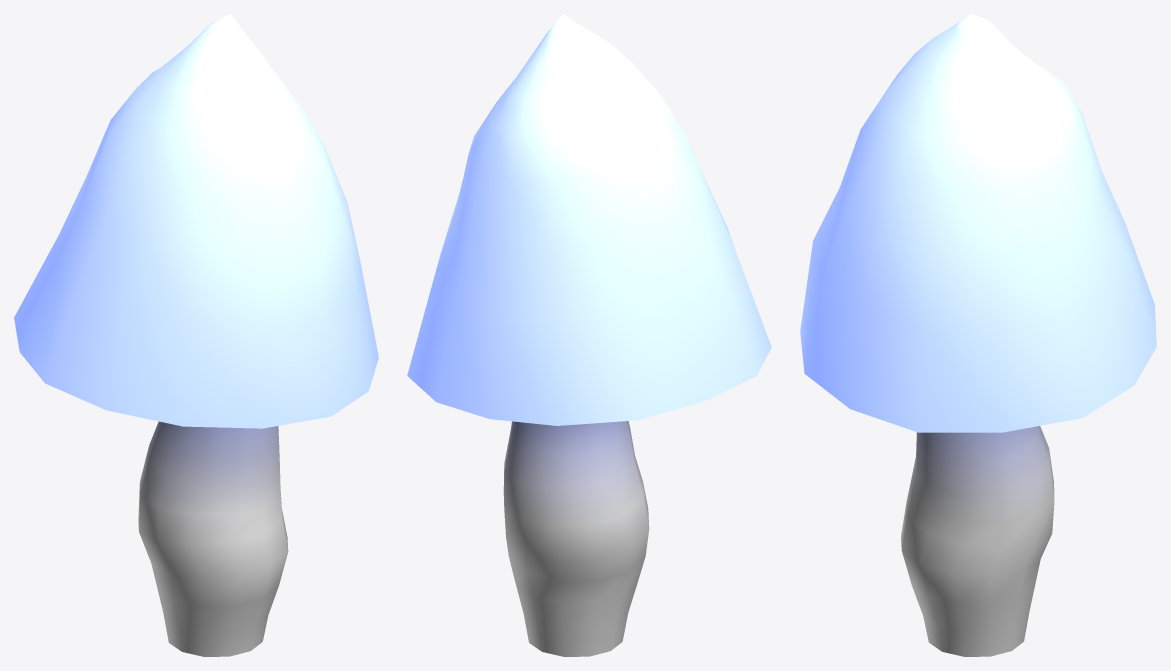
The model's file is mushroom_3.glb.
3 views of the same model, side by side, from view 1: azimuth 30°, elevation 25°; view 2: azimuth 150°, elevation 25°; view 3: azimuth 270°, elevation 25° (orthographic).
Visible parts, largest first — view 1: geo1; view 2: geo1; view 3: geo1.
Part boxes in pixels (x1=…): geo1: x1=14, y1=14, x2=378, y2=656; geo1: x1=407, y1=14, x2=771, y2=656; geo1: x1=800, y1=14, x2=1156, y2=656.
Bounding box in the file's own units: 0.1416 × 0.2696 × 0.1384.
